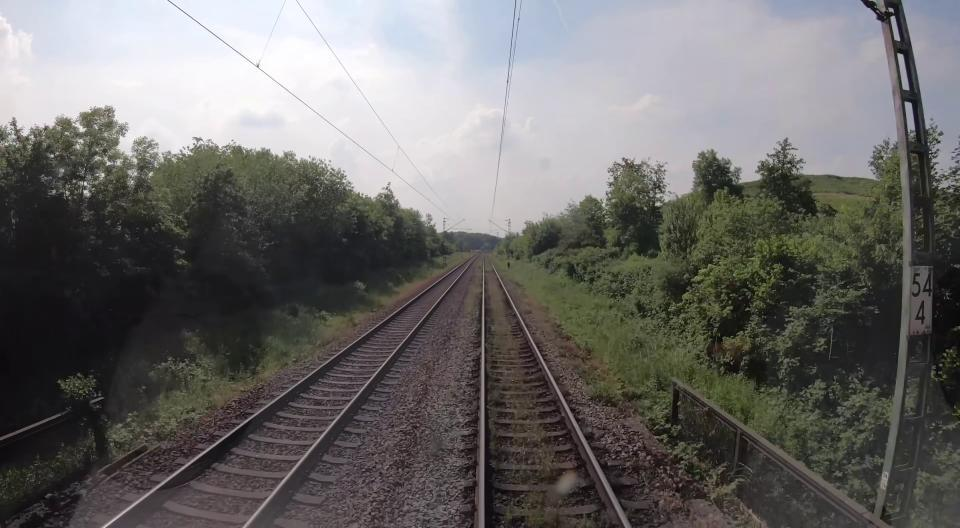Plant: (0, 255, 464, 520), (507, 258, 796, 449), (486, 272, 561, 478), (645, 397, 745, 513), (520, 489, 602, 528), (503, 503, 517, 528)
